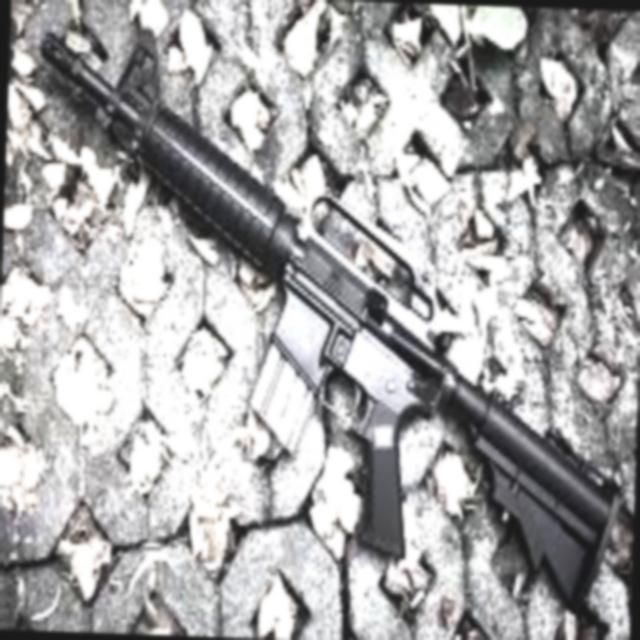m16: (16, 18, 504, 570)
